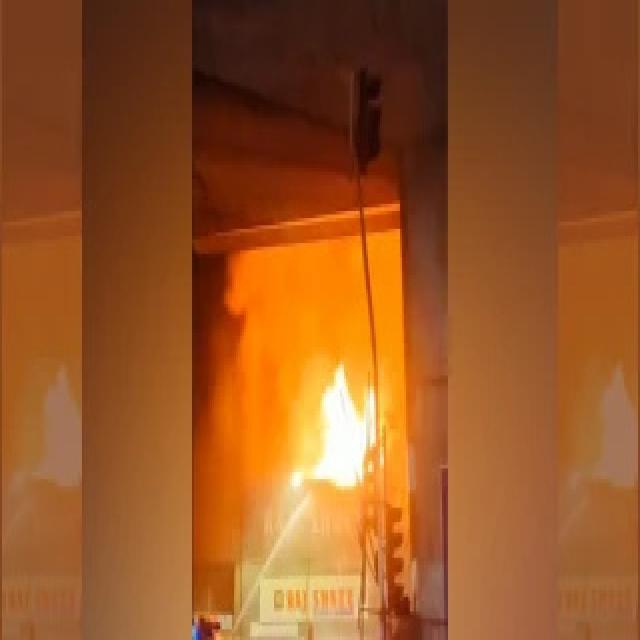fire: (288, 361, 382, 491)
